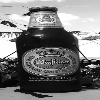beer: (15, 4, 86, 93)
